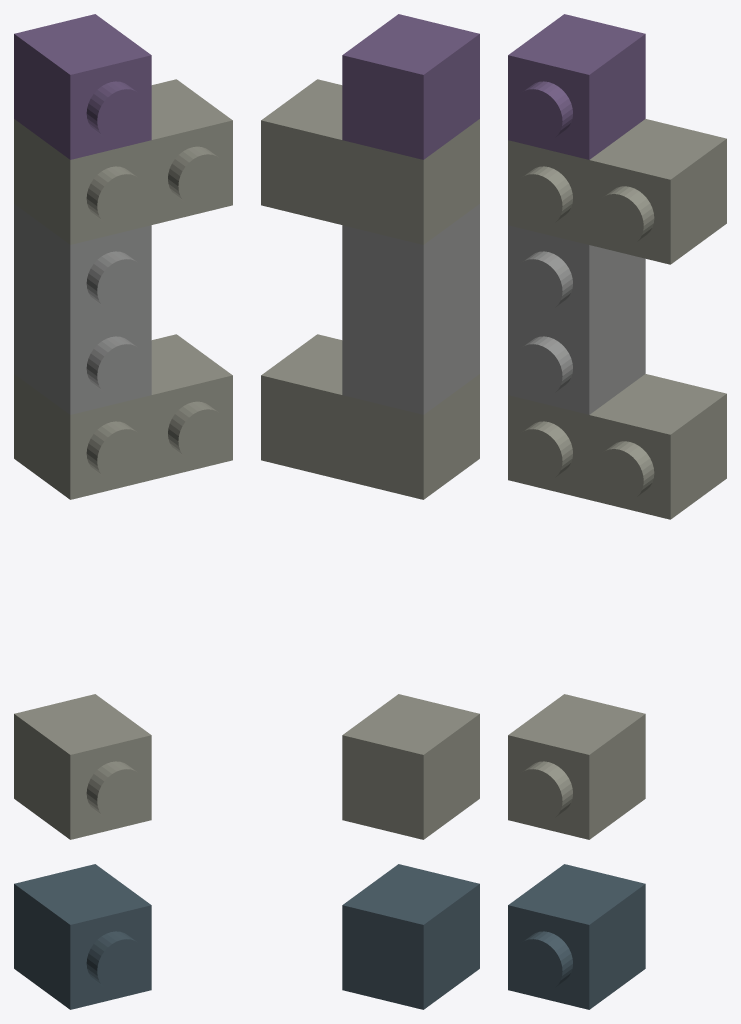
File: current.glb
3 views of the same model, side by side, from view 1: azimuth 30°, elevation 25°; view 2: azimuth 150°, elevation 25°; view 3: azimuth 330°, elevation 25° (orthographic).
Parts seen in each view (by area): view 1: world; view 2: world; view 3: world.
Part boxes in pixels (x1=…): world: x1=14, y1=14, x2=232, y2=1009; world: x1=261, y1=14, x2=479, y2=1009; world: x1=508, y1=14, x2=726, y2=1009.
Size of the model in its own units: 16 by 88 by 11.4.
